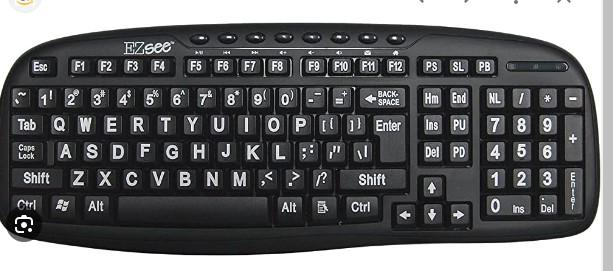Keyboard: (0, 23, 605, 256)
